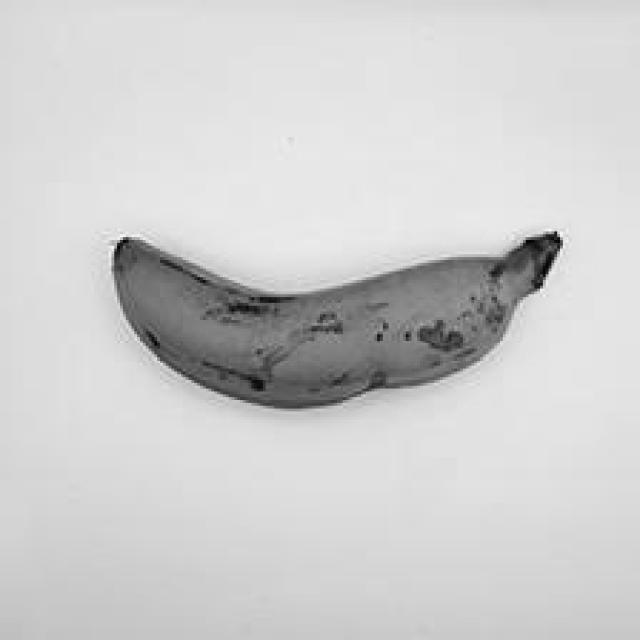Raw: (76, 184, 580, 416)
